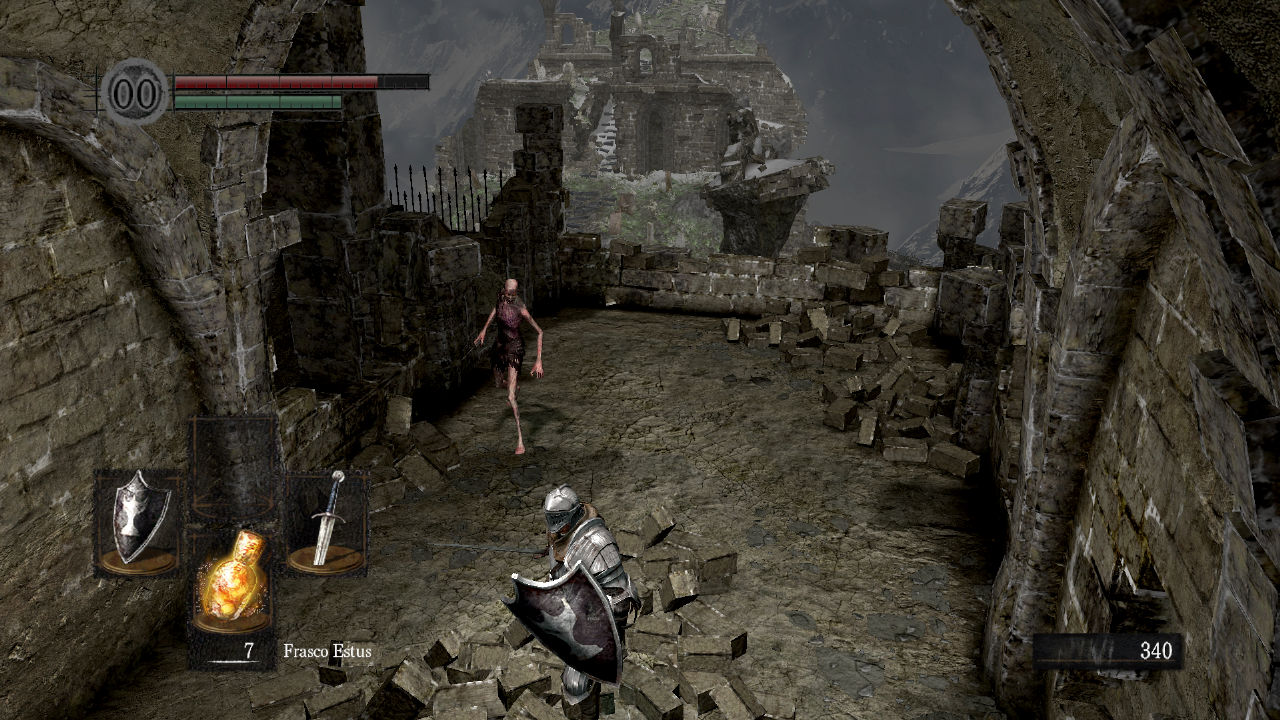hollow: (461, 279, 544, 455)
player: (425, 484, 643, 720)
